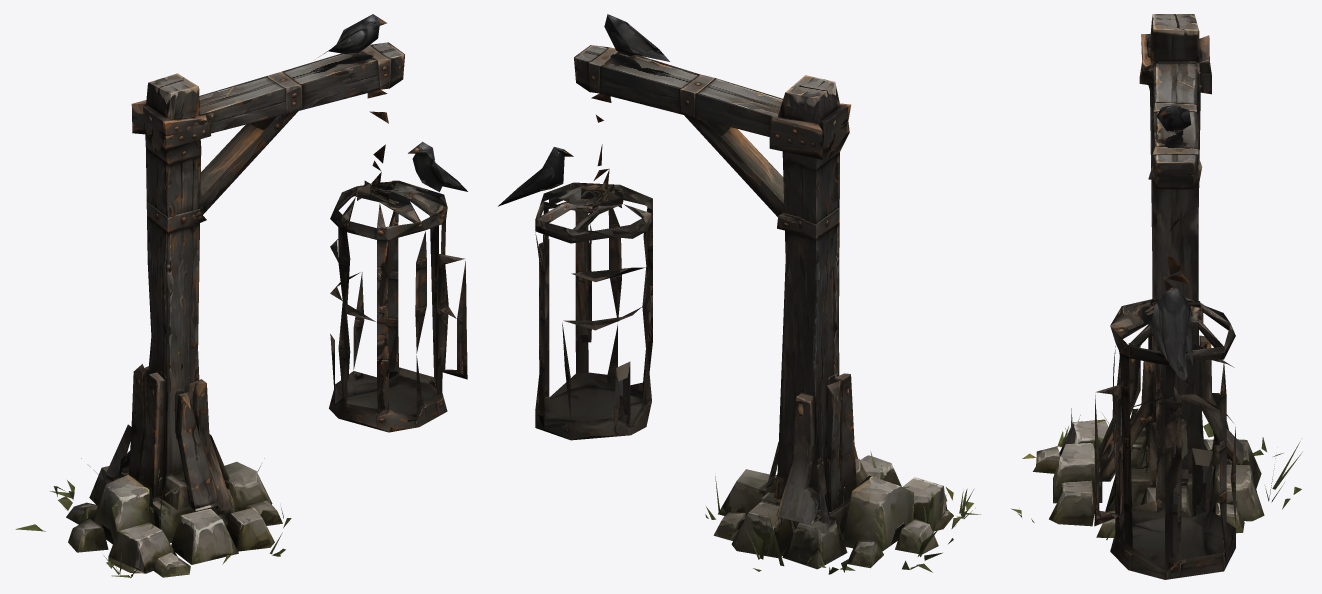
The model's file is act1_extras_v1_gibbet.glb.
The picture shows the model from 3 angles, left to right: view 1: azimuth 30°, elevation 25°; view 2: azimuth 150°, elevation 25°; view 3: azimuth 270°, elevation 25°; orthographic projection. The views are drawn at different scales.
Parts seen in each view (by area): view 1: A16_2_gibbet; view 2: A16_2_gibbet; view 3: A16_2_gibbet.
Boxes of the visible parts, bbox=[...] form: A16_2_gibbet: bbox=[15, 14, 467, 578]; A16_2_gibbet: bbox=[498, 14, 980, 574]; A16_2_gibbet: bbox=[1011, 14, 1302, 579].
Bounding box in the file's own units: 0.9937 × 0.978 × 0.5264.
1 material, 1 textured.
